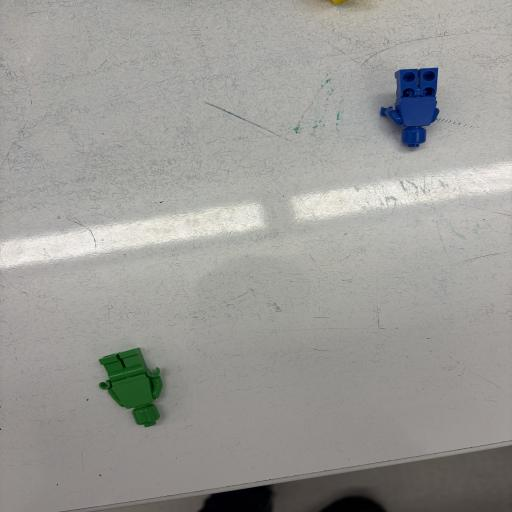Blue-Lego: (380, 68, 439, 148)
Green-Lego: (99, 348, 163, 427)
